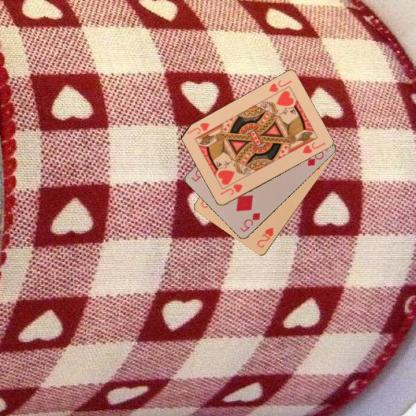2h: (254, 225, 275, 249)
5d: (237, 210, 262, 233)
Jh: (217, 181, 244, 196), (266, 78, 293, 93)
